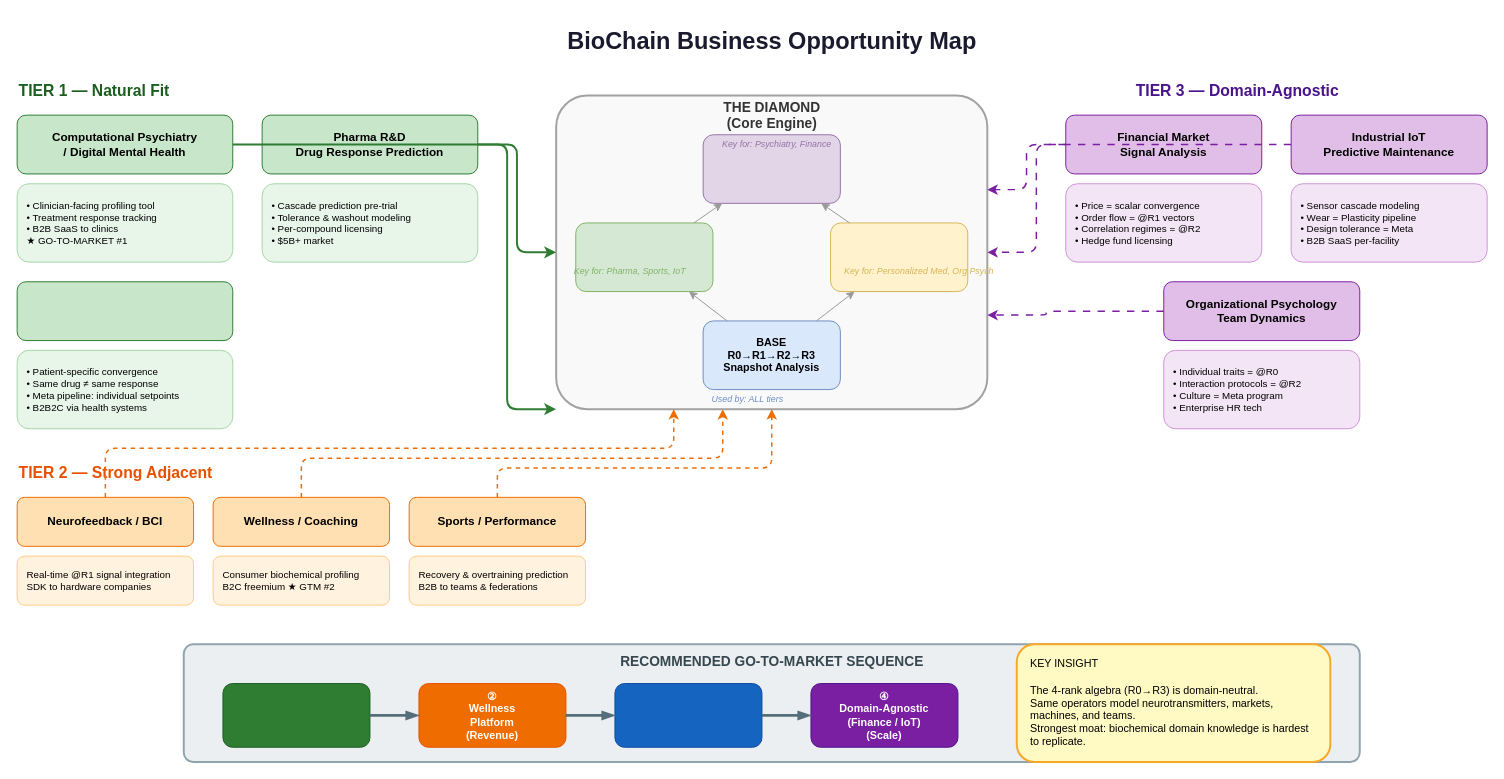
This 1504x779 diagram has some shape labels left out. Here are the shapes that lost their labels. From the top down, the box of each, then its label:
(702, 134, 840, 203): CONVERGENCE (∮) scalar(t) = f(past,curr,meta) Prediction Engine
(575, 222, 713, 292): PLASTICITY (Δ) Δ@R0→Δ@R3 Adaptation Tracking
(830, 222, 968, 292): META M3→M0 Developmental Program
(16, 281, 233, 341): Personalized Medicine Companion Diagnostics
(222, 683, 370, 747): ① Computational Psychiatry (Credibility)
(614, 683, 762, 747): ③ Pharma R&D Partnership (High-value)
